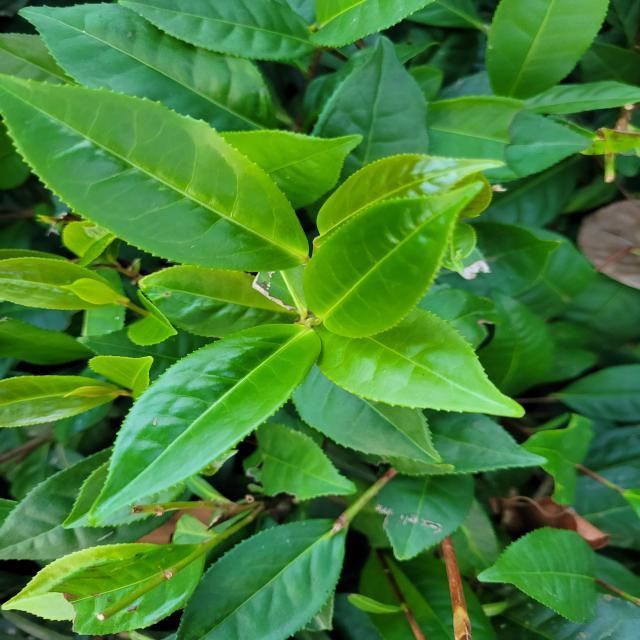Catagory A(1-2 days): (263, 168, 493, 346)
